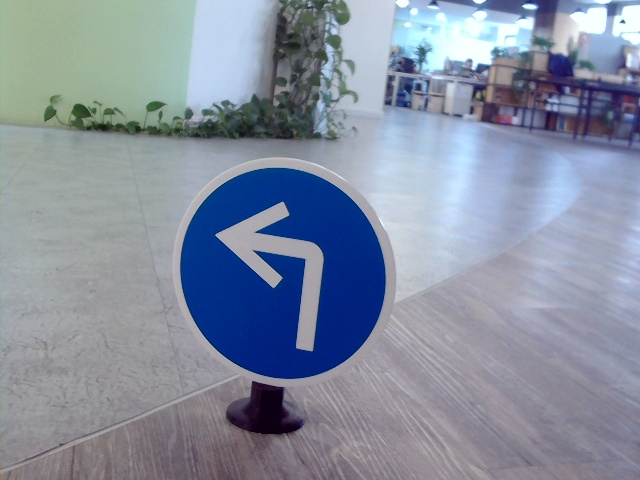turn_left: (219, 195, 335, 353)
